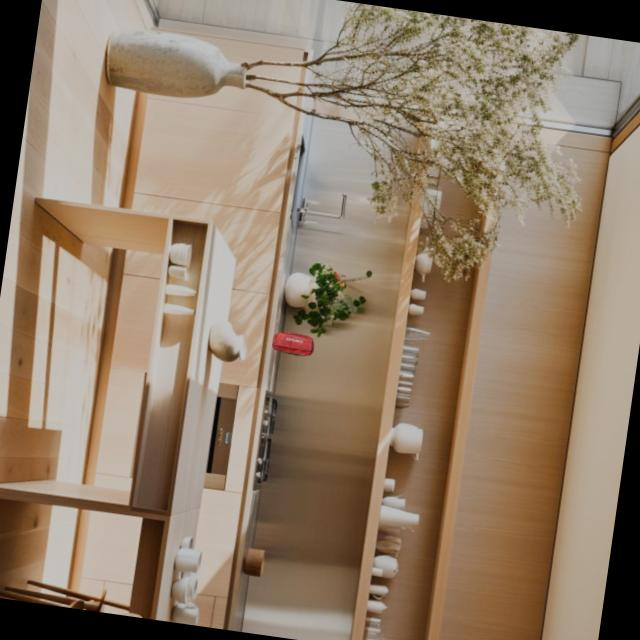mate bag: (272, 328, 322, 358)
